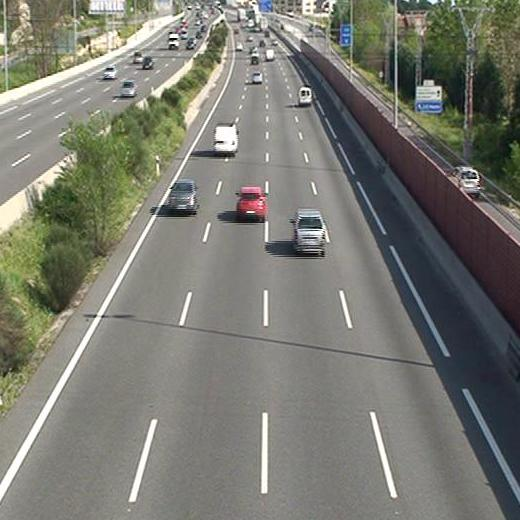car: (292, 210, 326, 253), (237, 187, 267, 218), (169, 181, 198, 211), (251, 71, 263, 84), (250, 55, 258, 65)
van: (214, 127, 236, 153), (299, 88, 311, 106), (264, 48, 274, 59)
